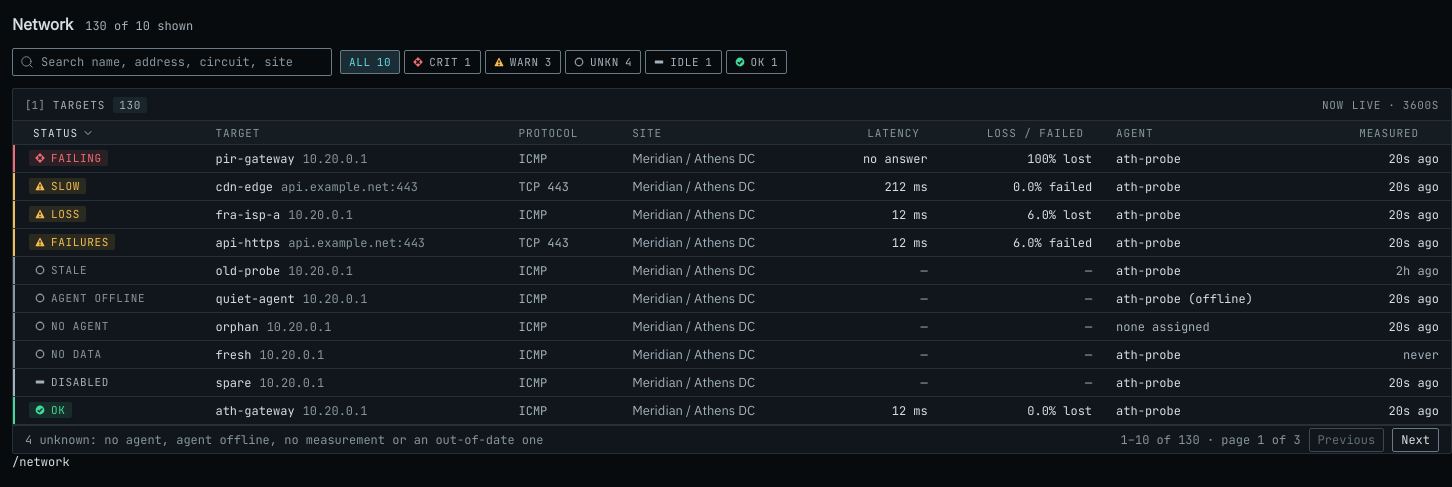
Test: the query › filters from the chips, sorts from the headers and pages, all in the URL
This screenshot has width=1452, height=487.
Click the button "WARN 3": (523,62) [485,50,561,74]
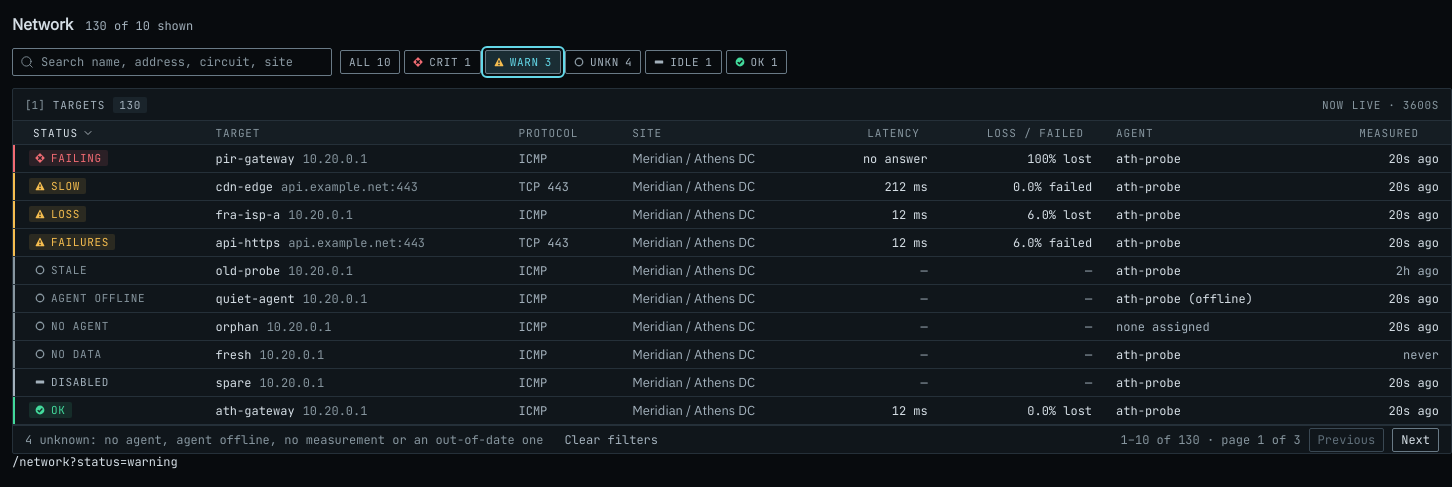
Expected: the text named "location" reads "/network?status=warning", [12,454,178,470]
Click the button "LATENCY": (902,132) [863,121,940,144]
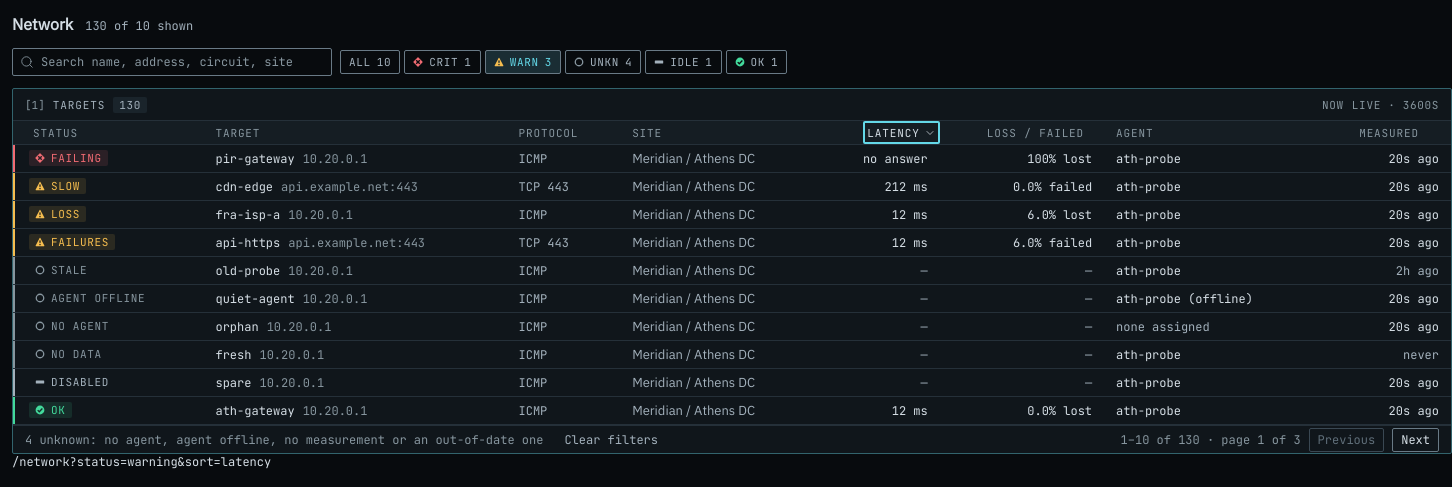
Expected: the text named "location" shows "sort=latency", [12,454,271,470]
Click the button "Next": (1416,440) [1392,428,1439,452]
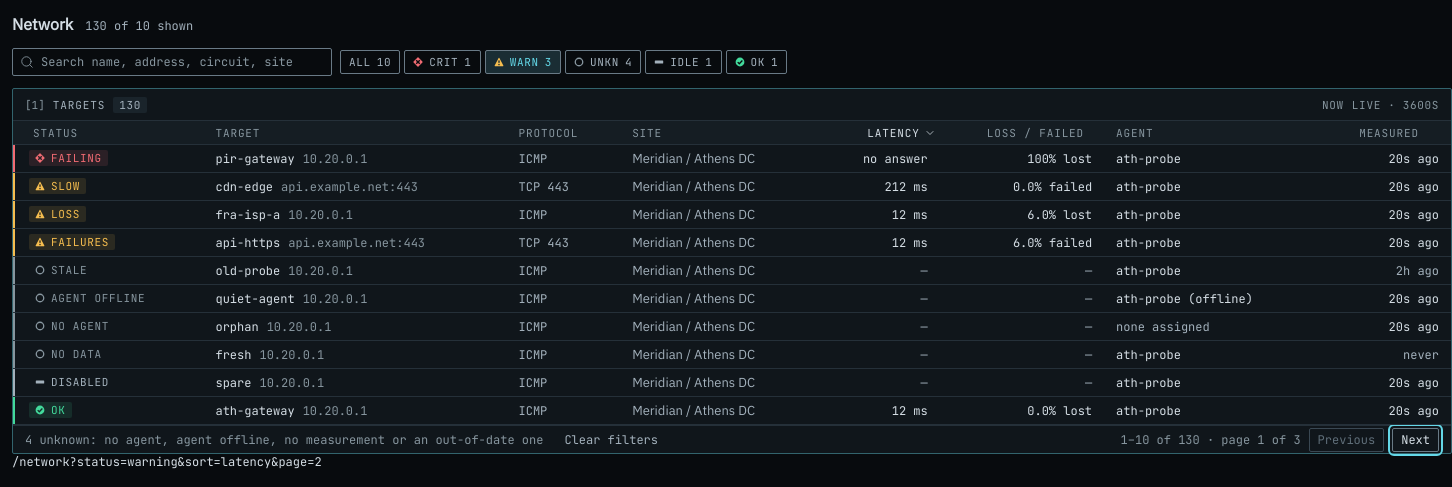
Expected: the text named "location" shows "page=2", [12,454,322,470]
